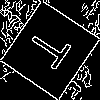T: (24, 25, 80, 77)
